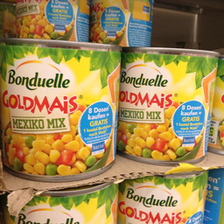corn: (3, 37, 120, 183), (117, 45, 218, 167), (117, 170, 208, 224), (91, 1, 154, 48), (15, 1, 89, 41)
